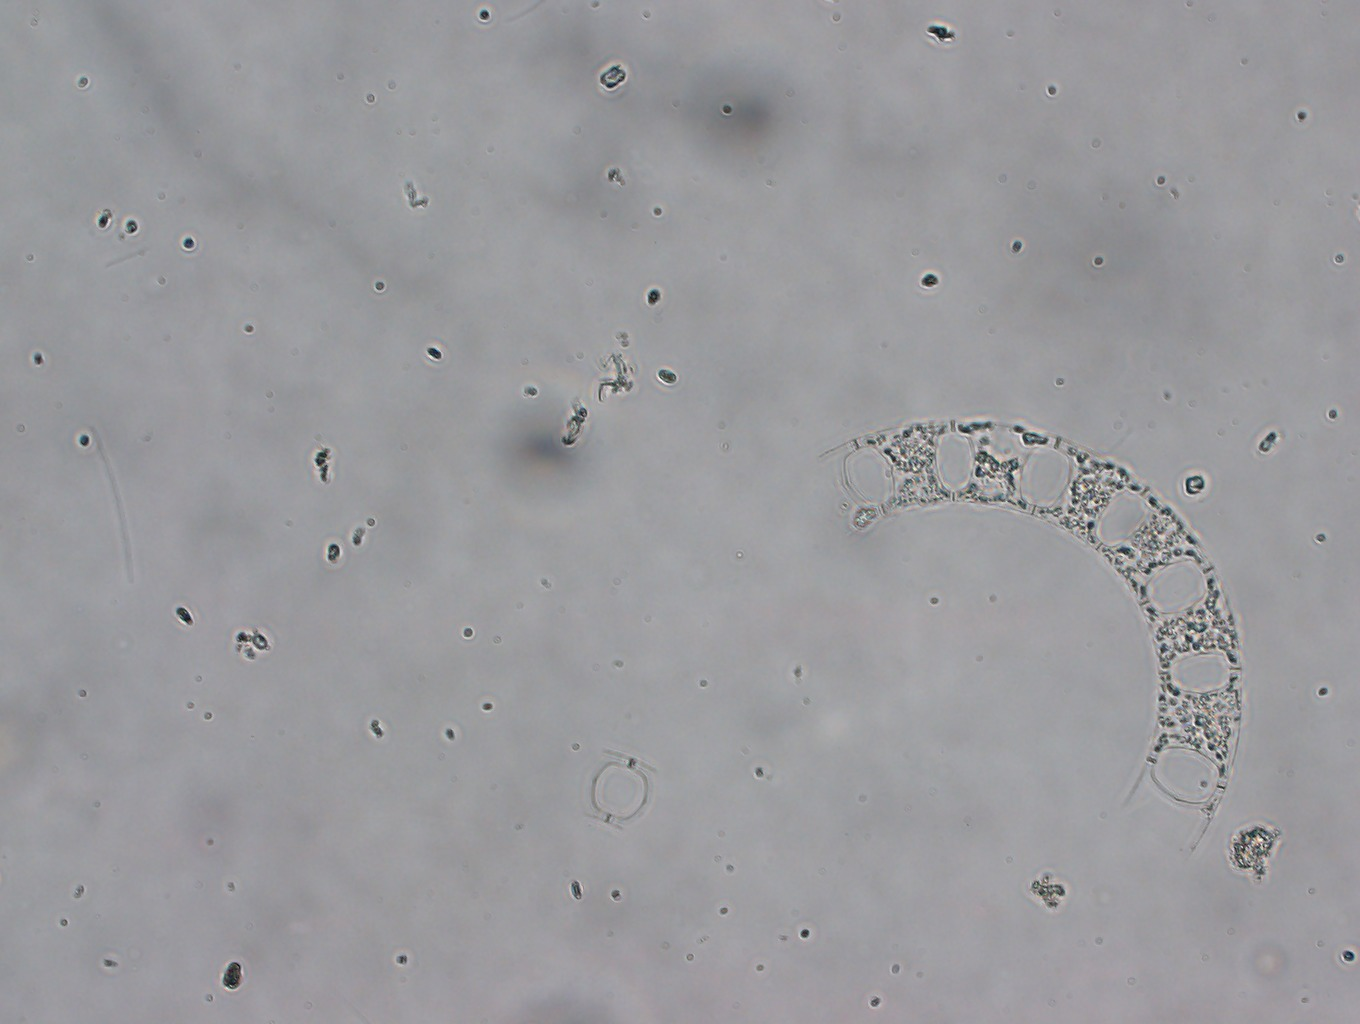eucampia: (817, 419, 1243, 841)
